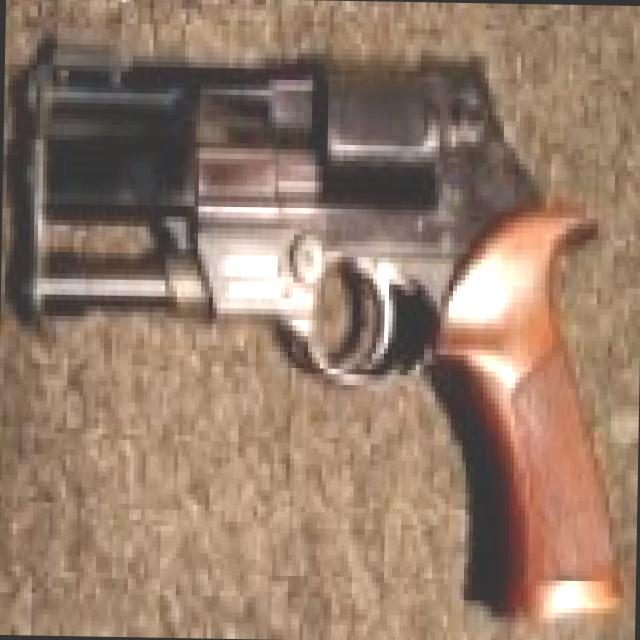handgun: (11, 26, 629, 614)
